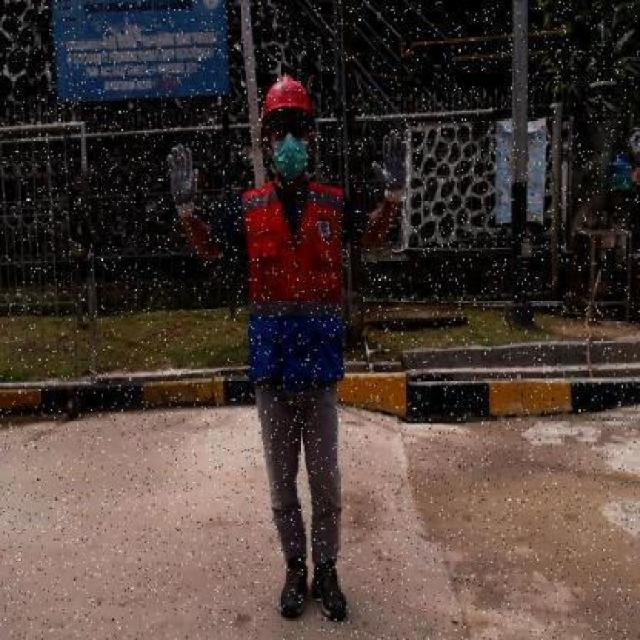Boots: (308, 550, 350, 624), (277, 549, 311, 626)
Gloves: (370, 127, 413, 205), (166, 143, 202, 222)
Helmet: (258, 74, 316, 121)
Mask: (268, 137, 312, 186)
